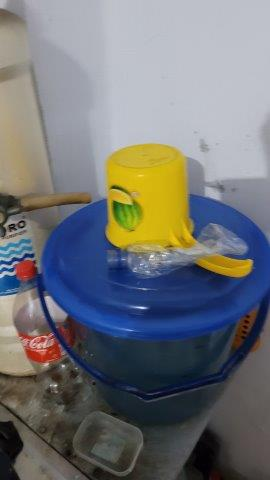botolplastik: (10, 257, 83, 408), (103, 223, 249, 286)
